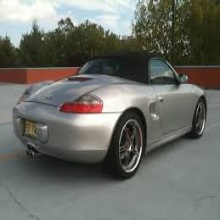no damage: (11, 52, 208, 180)
